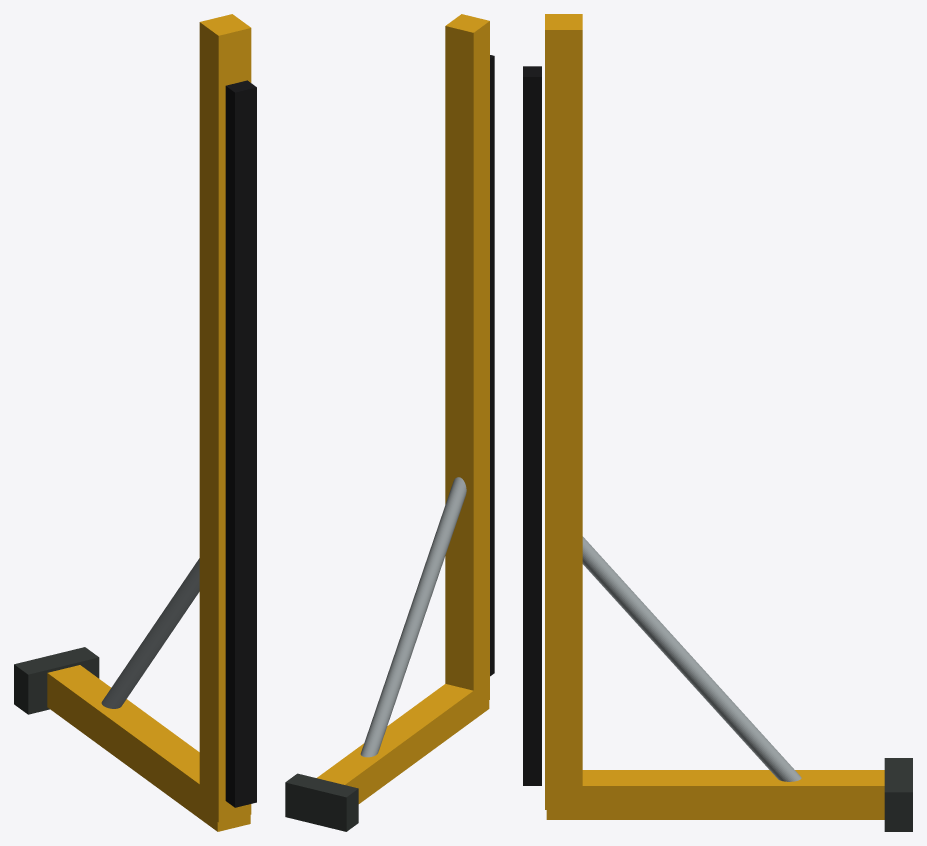
Rendered from sled_link.obj.
3 renders of one model, left to right at view 1: azimuth 30°, elevation 25°; view 2: azimuth 150°, elevation 25°; view 3: azimuth 270°, elevation 25°, orthographic. The views are drawn at different scales.
Parts seen in each view (by area): view 1: beam_1, hose_track_4, post_0, brace_2, rail_shoes_3; view 2: beam_1, post_0, brace_2, rail_shoes_3, hose_track_4; view 3: beam_1, post_0, hose_track_4, brace_2, rail_shoes_3.
Part boxes in pixels (<box>): beam_1: <box>199,14,251,822</box>; hose_track_4: <box>225,80,256,807</box>; post_0: <box>47,665,250,831</box>; brace_2: <box>101,558,199,708</box>; rail_shoes_3: <box>14,647,99,714</box>; beam_1: <box>445,14,489,710</box>; post_0: <box>317,680,489,803</box>; brace_2: <box>360,477,466,757</box>; rail_shoes_3: <box>285,773,358,831</box>; hose_track_4: <box>490,55,494,676</box>; beam_1: <box>545,14,582,809</box>; post_0: <box>546,770,884,819</box>; hose_track_4: <box>523,66,541,785</box>; brace_2: <box>582,536,801,781</box>; rail_shoes_3: <box>884,758,912,831</box>.
Size of the model in its own units: 0.26 by 2.79 by 1.25.
